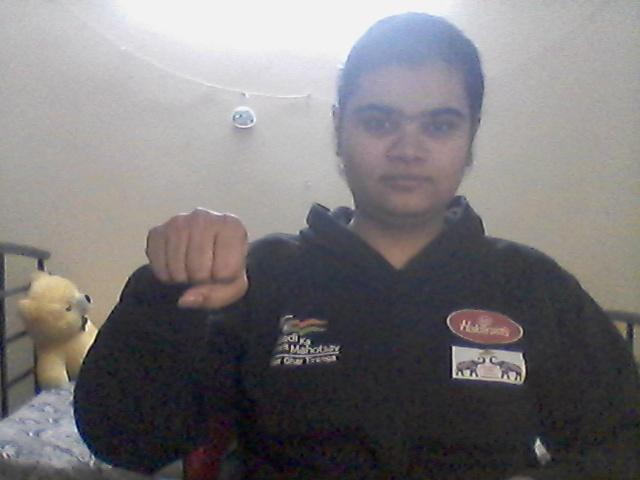yes: (138, 208, 255, 306)
